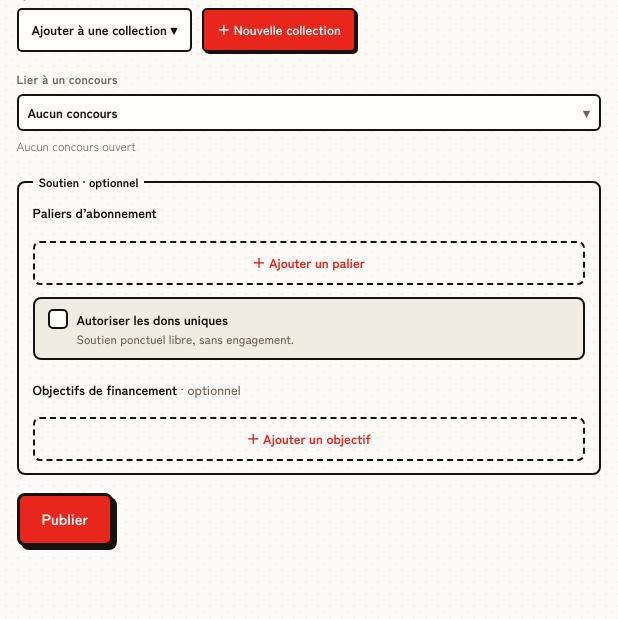
Test: PublishIllustrationForm (DR-12 V1) › blocks submit with an inline error when the title is empty
The image size is (618, 619).
(page scrolled)
Click the button "Publier": (65, 519) [16,493,113,546]
(page scrolled)
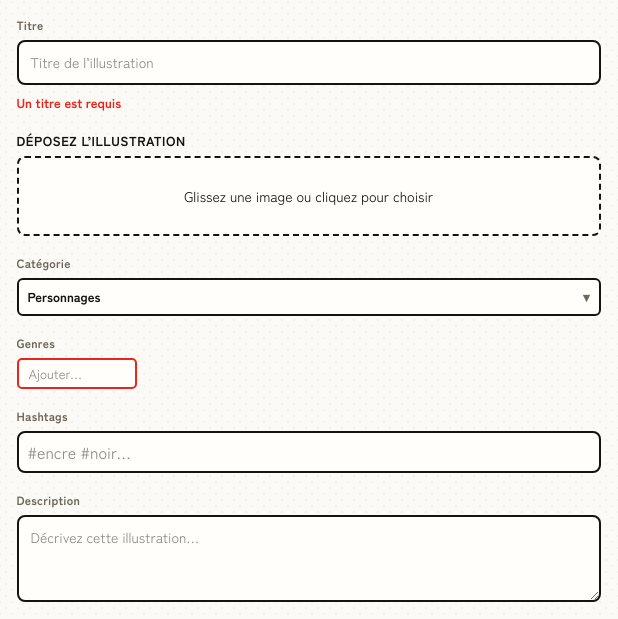
Check: the text "Un titre est requis" is shown, box [16,93,121,112]
